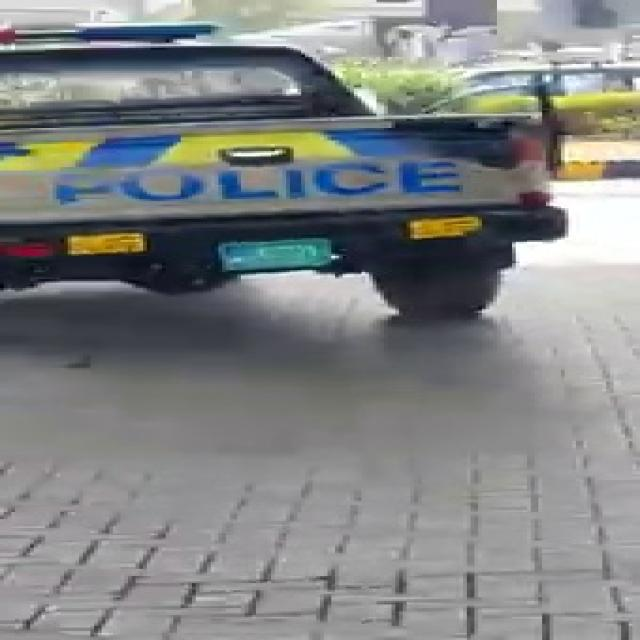police: (0, 0, 581, 319)
